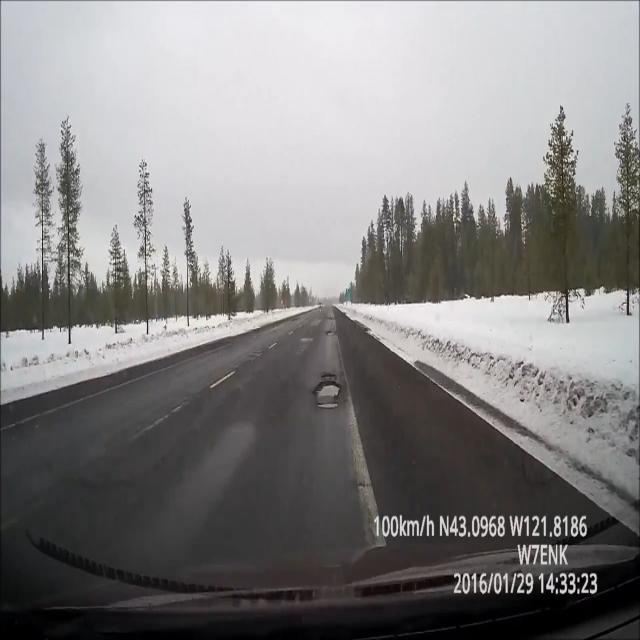Pothole: (313, 370, 344, 420), (323, 328, 338, 340)
